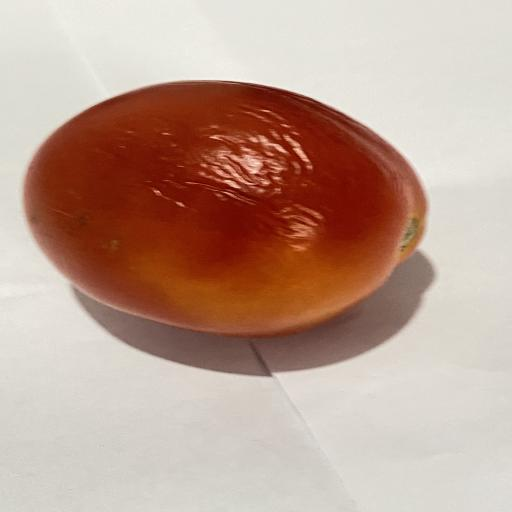spoiled: (24, 81, 426, 337)
